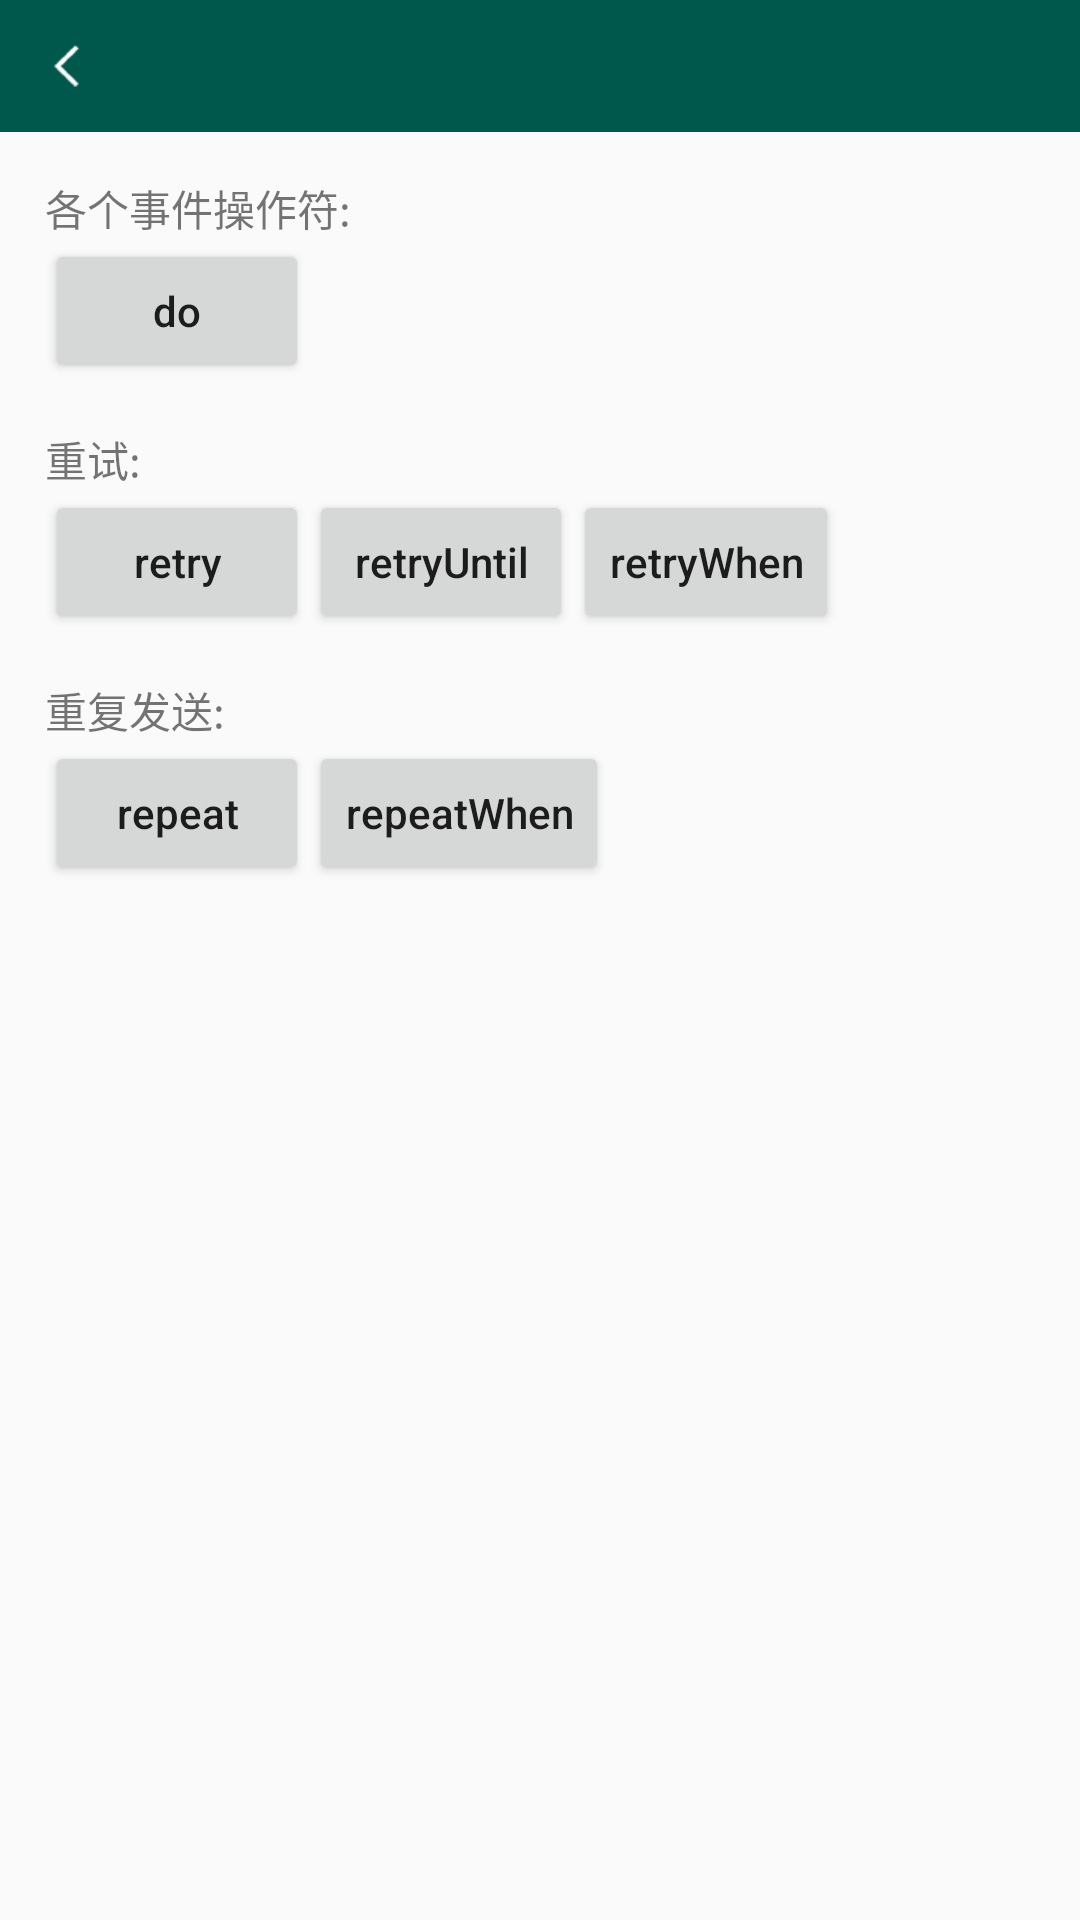

Point at icon controls on the screen. Image size 1080px x 1920px, points as (x,y).
back: (66,66)
